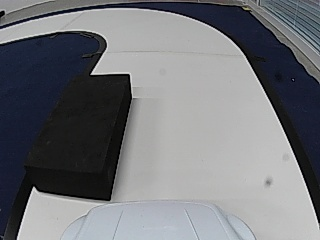block: (38, 73, 132, 201)
